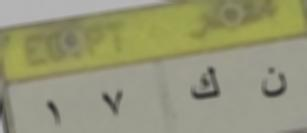1: (45, 97, 65, 130)
7: (97, 85, 127, 119)
kaaf: (187, 61, 221, 106)
noon: (256, 63, 290, 105)
